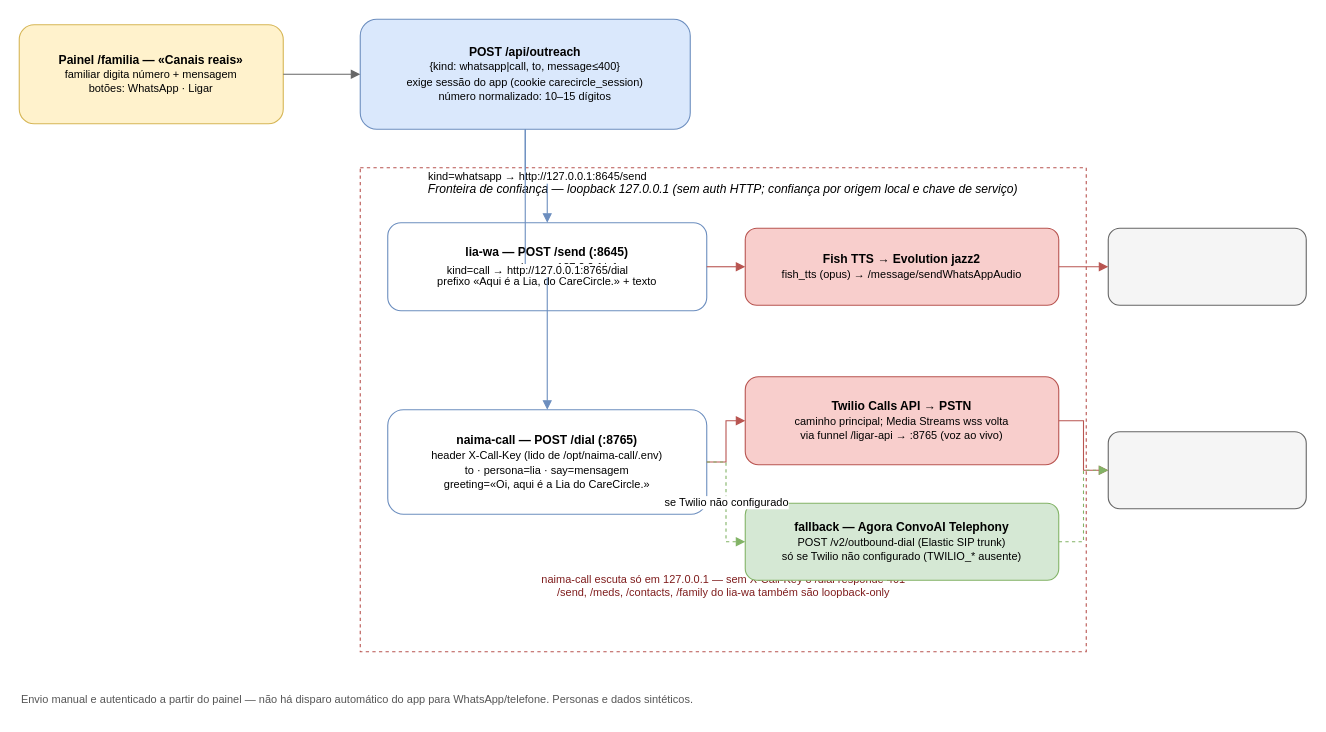
Some shapes in this 1326 by 732 pixel diagram are drawn without their labels. Here are the shapes that lost their labels. From the top down, the centre of each, then its label:
[1206,266]: WhatsApp do destinatário recebe nota de voz da Lia
[1206,470]: Telefone toca (PSTN) a Lia fala a mensagem ao vivo
